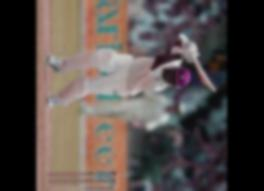batsman: (39, 16, 219, 141)
